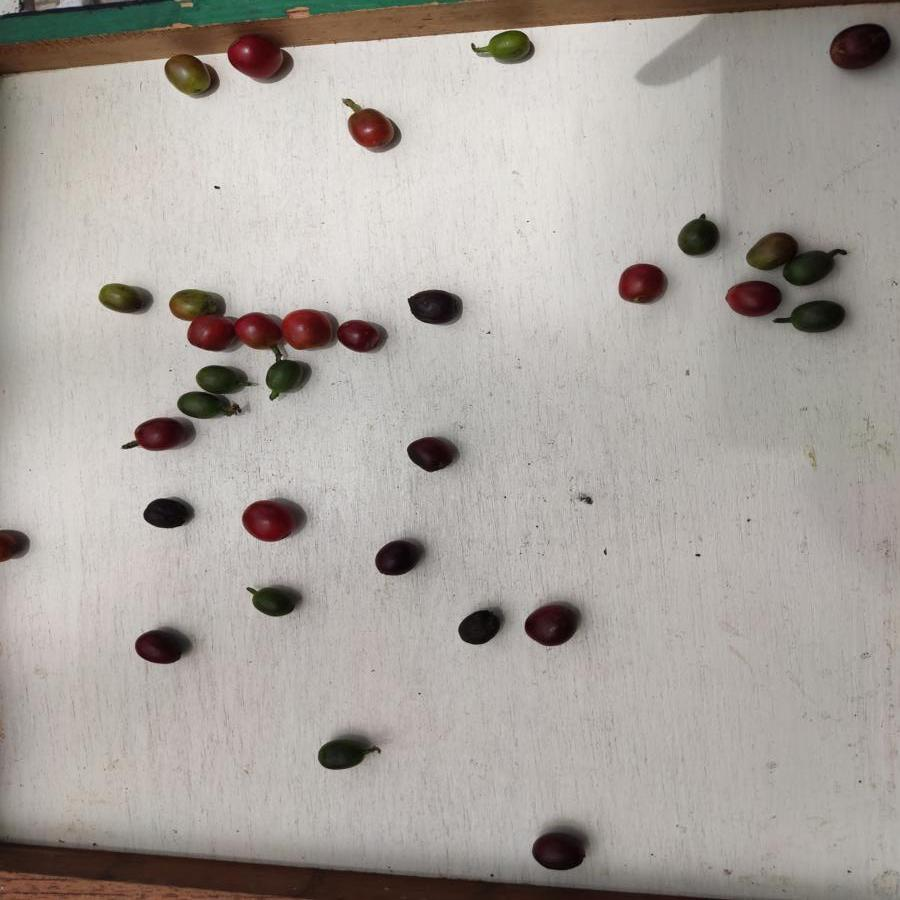Inmaduro: (787, 250, 838, 287), (788, 302, 847, 333), (315, 738, 365, 772), (262, 359, 304, 396), (248, 589, 295, 619), (174, 392, 226, 418), (194, 364, 238, 394)
Maduro: (224, 34, 284, 83), (240, 500, 296, 543), (617, 260, 667, 307), (344, 109, 399, 150), (280, 308, 333, 350), (232, 313, 281, 352), (187, 318, 231, 352)
Pinton: (162, 52, 214, 100), (743, 228, 792, 273), (479, 29, 534, 67), (94, 280, 143, 313), (169, 288, 220, 317)
Sobremaduro: (827, 21, 890, 71), (521, 603, 578, 648), (405, 287, 466, 325), (723, 281, 783, 317), (531, 832, 585, 872), (370, 538, 424, 576), (131, 417, 187, 453), (133, 631, 185, 666), (336, 319, 380, 358), (141, 497, 191, 531), (406, 436, 452, 472), (455, 609, 499, 645)
